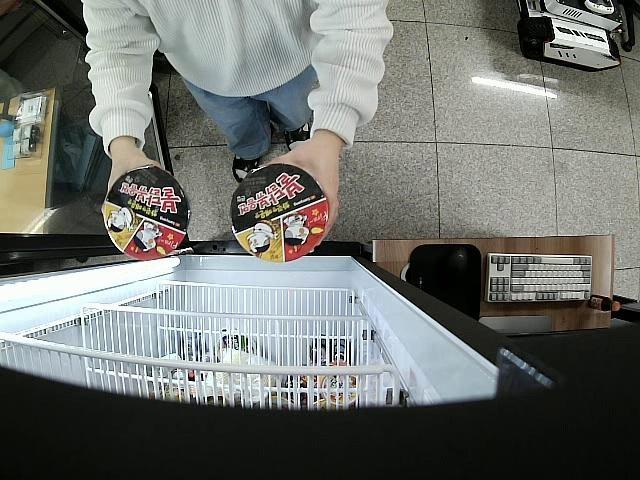07_buldak_L: (231, 162, 330, 264), (105, 168, 190, 260)
